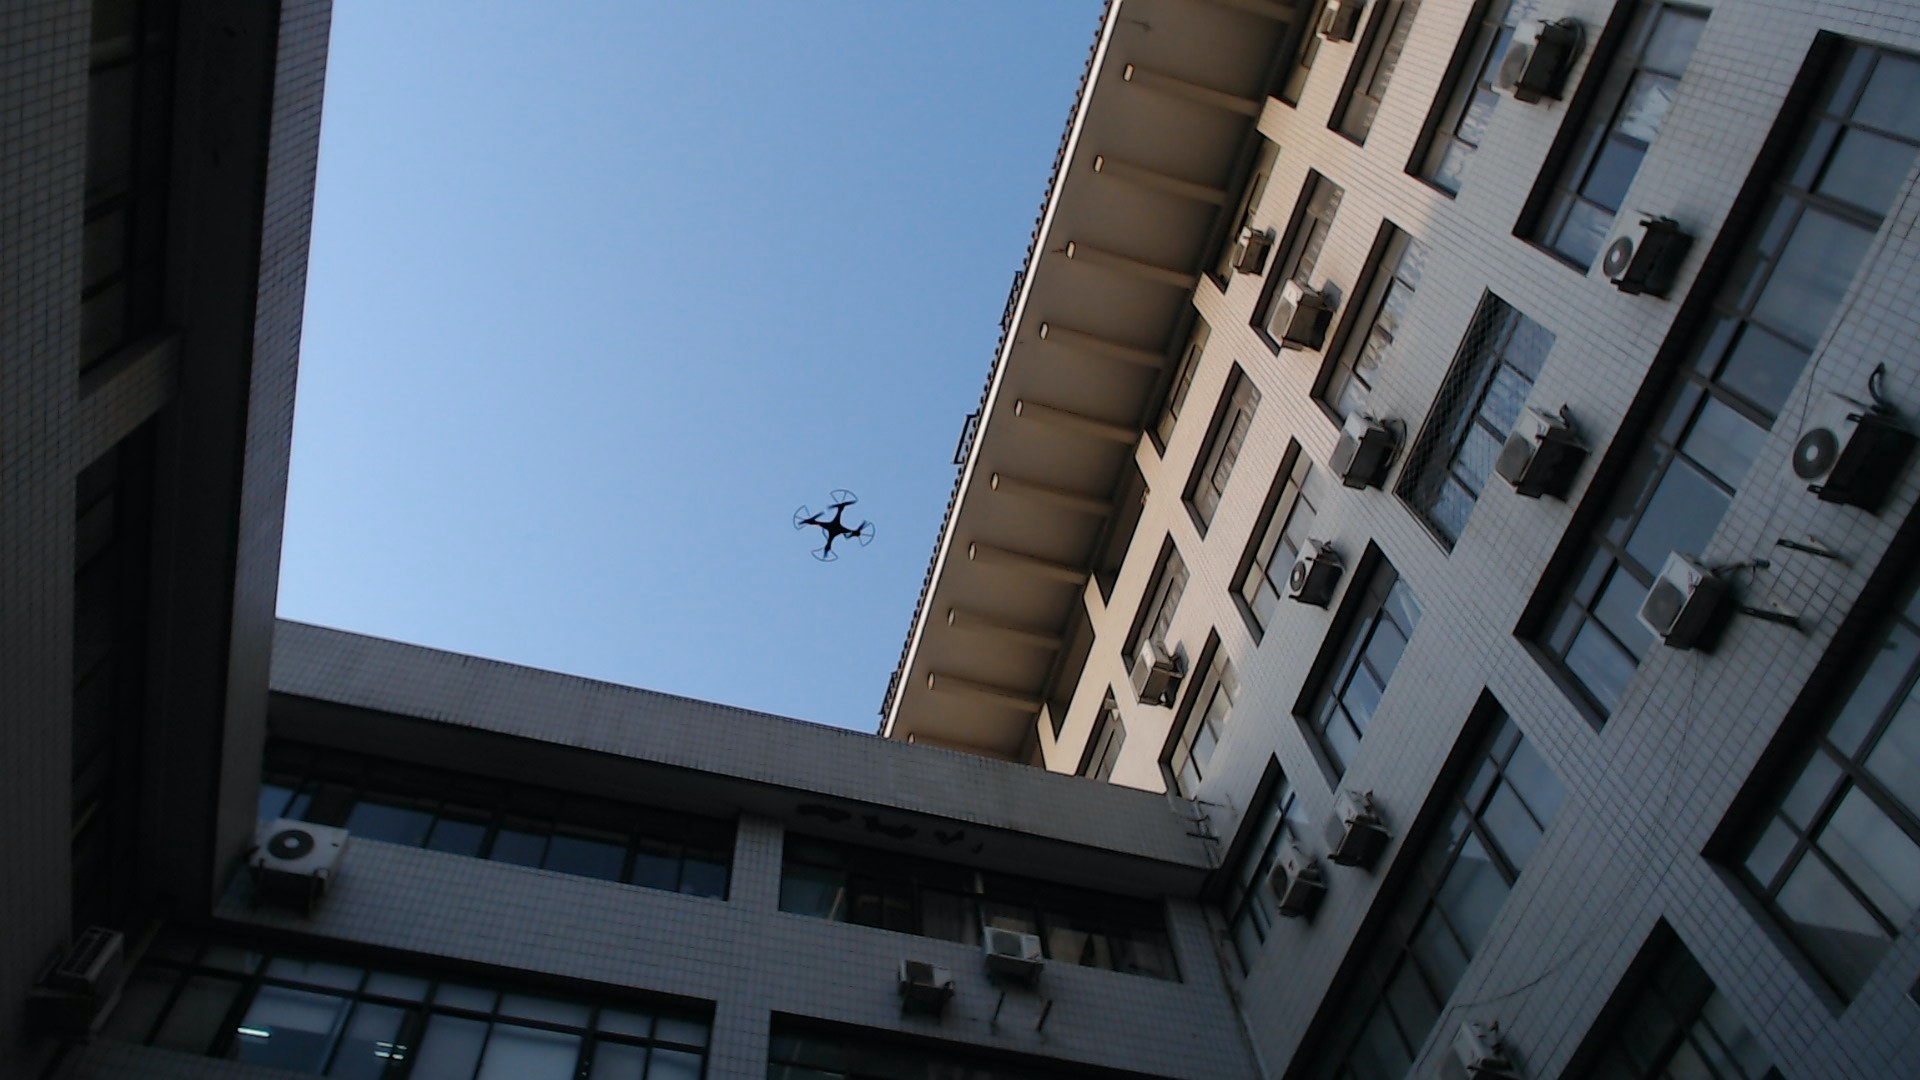drone: (778, 477, 895, 578)
